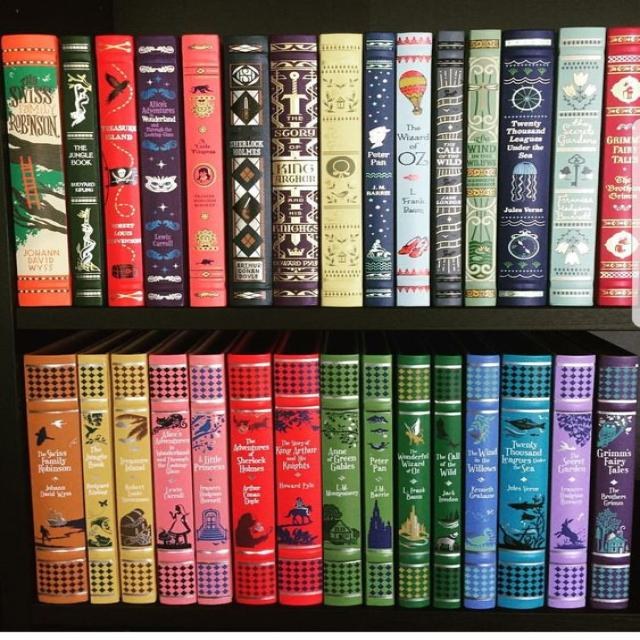book: (3, 36, 69, 305), (497, 31, 553, 305), (24, 356, 86, 602), (553, 27, 606, 306), (222, 34, 273, 305), (499, 356, 553, 609), (269, 36, 317, 306), (136, 37, 184, 307), (96, 36, 144, 305), (587, 356, 638, 607), (227, 354, 276, 604), (182, 34, 226, 307), (547, 356, 595, 606), (273, 354, 321, 602), (150, 355, 196, 604), (60, 38, 102, 305), (112, 354, 156, 603), (321, 34, 361, 306), (601, 28, 639, 306), (191, 356, 233, 604), (78, 354, 119, 604), (465, 31, 501, 305), (322, 354, 361, 606), (397, 33, 430, 307), (365, 33, 394, 305), (466, 356, 497, 610), (434, 32, 462, 308), (399, 355, 429, 607), (365, 357, 394, 607), (436, 356, 462, 608)
